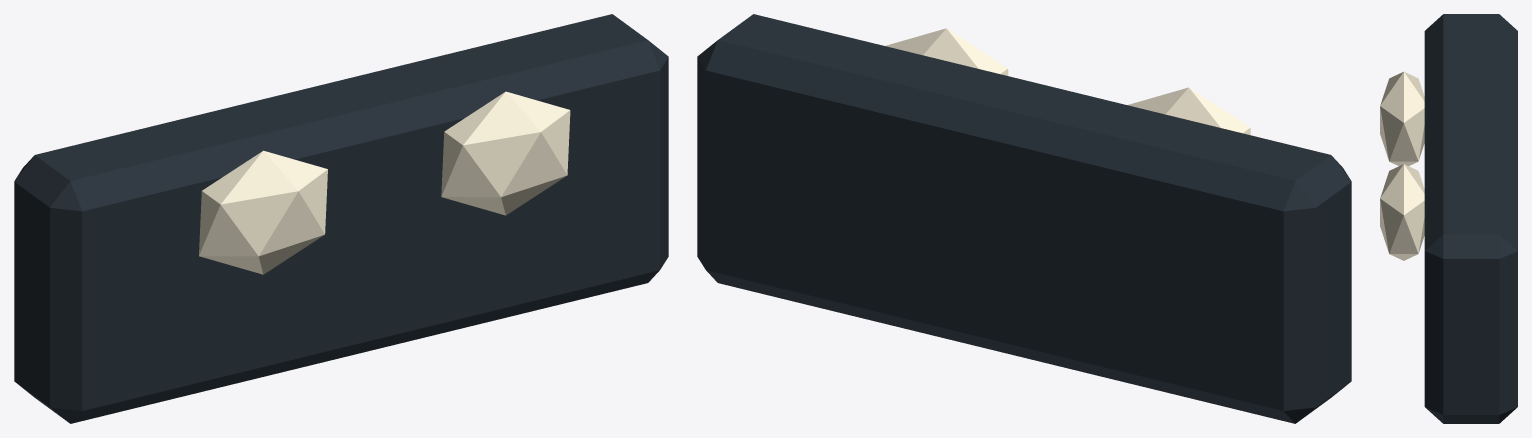
Rendered from Modular_Player_Mask.fbx.
3 renders of one model, left to right at view 1: azimuth 30°, elevation 25°; view 2: azimuth 150°, elevation 25°; view 3: azimuth 270°, elevation 25°, orthographic. The views are drawn at different scales.
Visible parts, largest first — view 1: Mask.001, MaskEye.002, MaskEye.003; view 2: Mask.001, MaskEye.002, MaskEye.003; view 3: Mask.001, MaskEye.003, MaskEye.002.
Part boxes in pixels (x1=…): Mask.001: x1=14, y1=14, x2=668, y2=423; MaskEye.002: x1=199, y1=150, x2=327, y2=274; MaskEye.003: x1=441, y1=91, x2=570, y2=215; Mask.001: x1=697, y1=14, x2=1351, y2=423; MaskEye.002: x1=1127, y1=87, x2=1250, y2=135; MaskEye.003: x1=885, y1=28, x2=1008, y2=75; Mask.001: x1=1424, y1=14, x2=1517, y2=423; MaskEye.003: x1=1380, y1=164, x2=1424, y2=260; MaskEye.002: x1=1380, y1=71, x2=1424, y2=166.
Size of the model in its own units: 0.24 by 0.093 by 0.0592.
